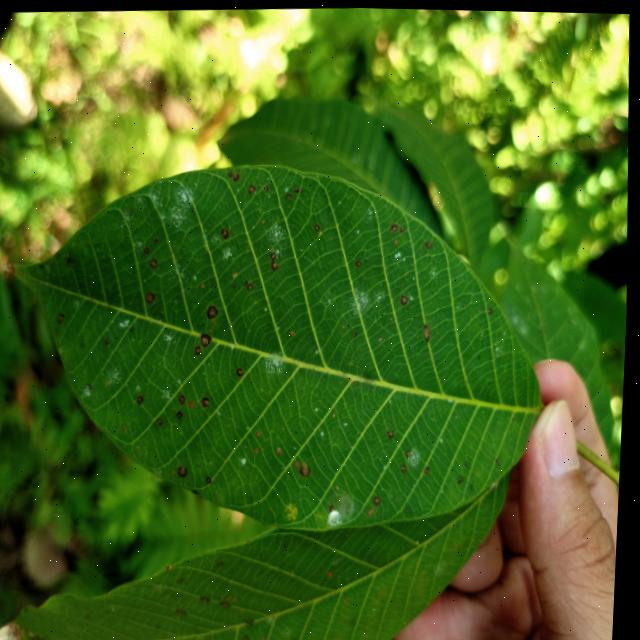Colletotrichum: (210, 303, 221, 317), (204, 331, 215, 345), (182, 464, 192, 474), (222, 226, 231, 236), (151, 256, 160, 265), (204, 395, 212, 405), (149, 291, 157, 301), (377, 493, 385, 503), (403, 292, 410, 302), (274, 257, 280, 268), (197, 344, 204, 353), (250, 182, 257, 191), (392, 220, 399, 229), (239, 366, 246, 374), (404, 461, 411, 469), (272, 249, 278, 258), (182, 393, 188, 402), (235, 171, 241, 179), (391, 427, 397, 435), (141, 394, 147, 402), (180, 409, 186, 416), (427, 239, 433, 246), (250, 281, 256, 287), (161, 417, 167, 423), (316, 222, 321, 228), (401, 224, 406, 230), (358, 257, 362, 263), (429, 463, 433, 469), (463, 473, 467, 479), (149, 375, 150, 377)
